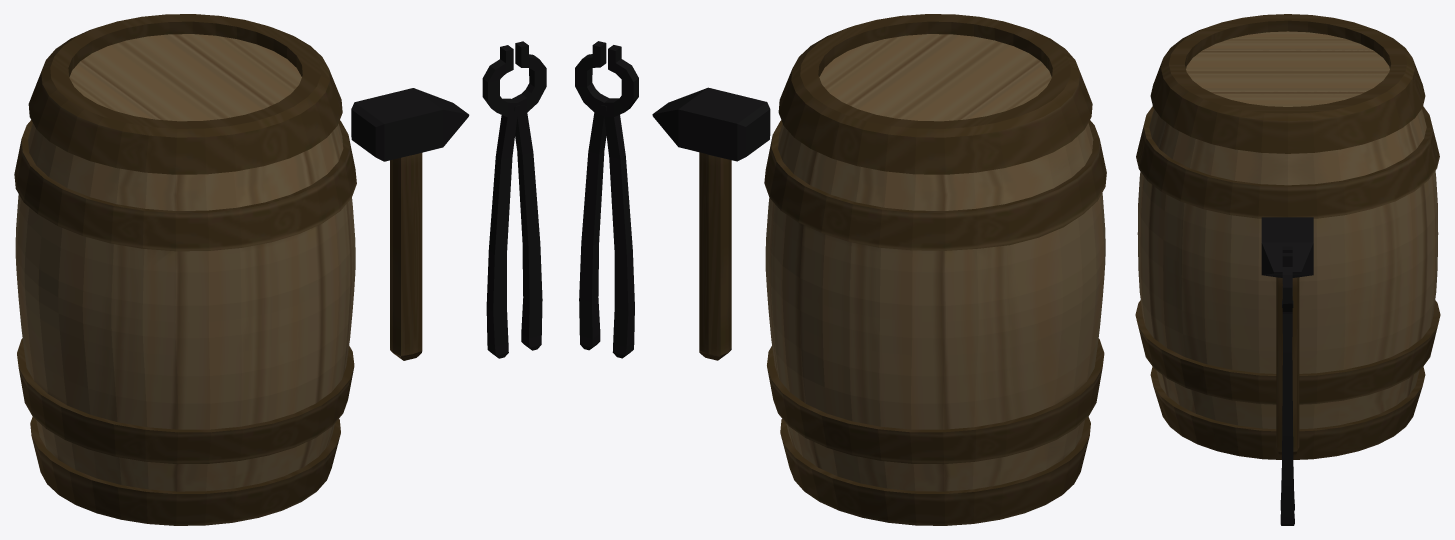
The model's file is BarrilFerramentas.fbx.
The picture shows the model from 3 angles, left to right: view 1: azimuth 30°, elevation 25°; view 2: azimuth 150°, elevation 25°; view 3: azimuth 270°, elevation 25°; orthographic projection. The views are drawn at different scales.
Parts seen in each view (by area): view 1: Circle.001, Cube, Cube.001; view 2: Circle.001, Cube, Cube.001; view 3: Circle.001, Cube, Cube.001.
Part boxes in pixels (<box>): Circle.001: <box>14,14,356,525</box>; Cube: <box>351,88,469,360</box>; Cube.001: <box>482,41,546,358</box>; Circle.001: <box>764,14,1106,525</box>; Cube: <box>652,87,770,360</box>; Cube.001: <box>575,41,638,358</box>; Circle.001: <box>1135,14,1440,459</box>; Cube: <box>1261,217,1313,455</box>; Cube.001: <box>1280,246,1294,525</box>.
Bounding box in the file's own units: 673 × 506 × 403.
